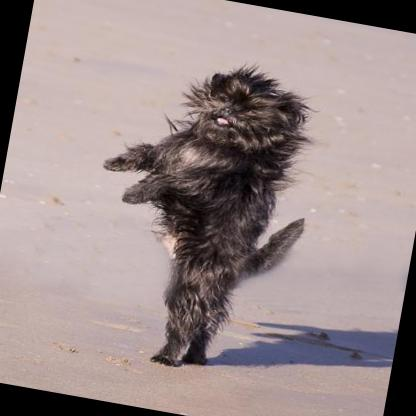affenpinscher: (62, 36, 347, 390)
